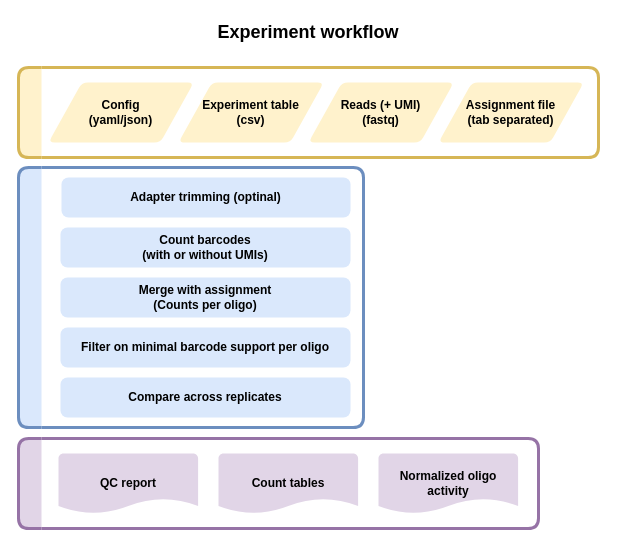
The diagram is 617 pixels wide and 547 high, and some of its shapes have lost their labels. The shapes that lost their labels are listed below. From the top down, each one's box as (x1, y1, x2, y2) in pixels, then its label:
(16, 66, 600, 158): Input
(16, 166, 364, 428): Processing
(16, 436, 540, 530): Output
